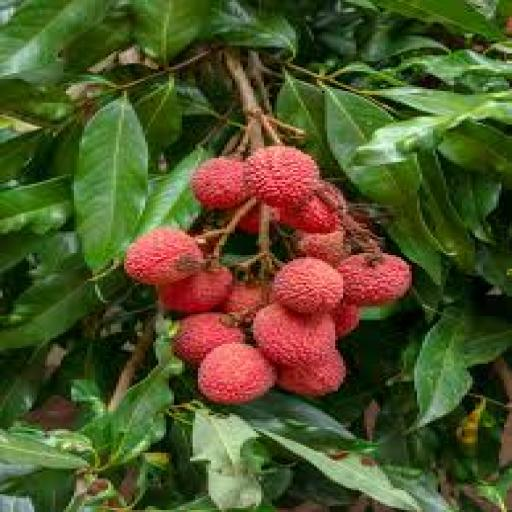lychee: (254, 303, 335, 365), (198, 344, 274, 403), (246, 147, 319, 207), (125, 228, 203, 284), (272, 257, 343, 314), (338, 254, 411, 306), (175, 313, 245, 365), (159, 267, 232, 312), (278, 184, 345, 233), (278, 350, 345, 397), (193, 157, 248, 209), (220, 281, 271, 318), (299, 230, 348, 266), (333, 303, 358, 338), (238, 206, 261, 233)
